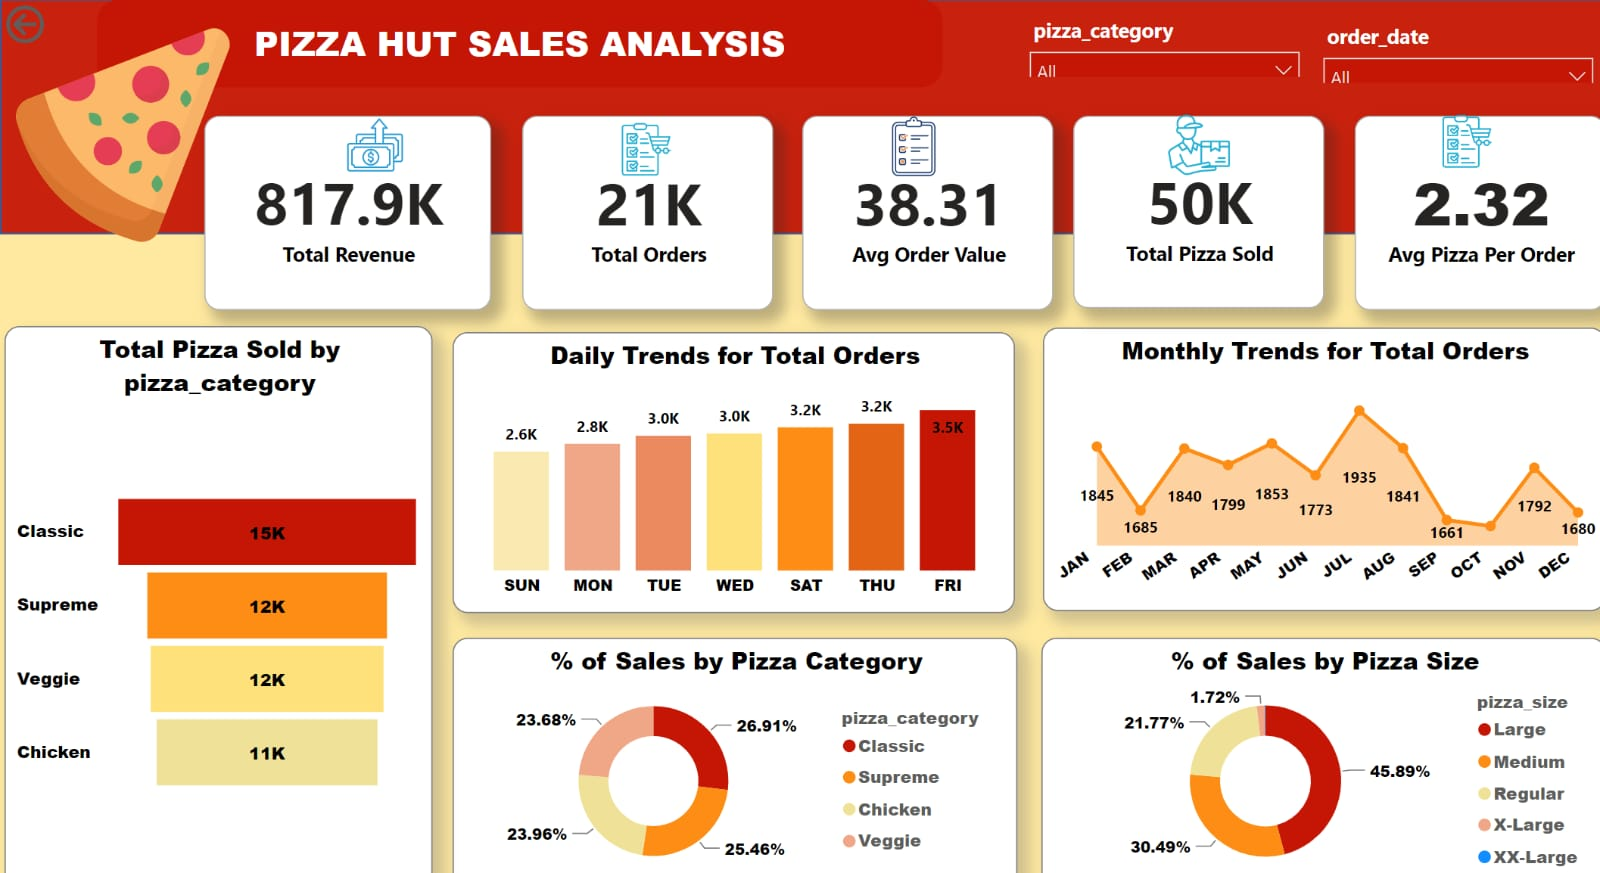

Layout of this report page (visuals, bound fields, positions):
{"tool":"powerbi","page":{"name":"Page 1","canvas":[1280,720],"ordinal":0},"visuals":[{"type":"card","fields":{"Values":["pizza_sales.Total Revenue"]},"box":[20.5,122.1,215.9,138.8],"z":0,"group":"g1"},{"type":"card","fields":{"Values":["pizza_sales.Total Orders"]},"box":[277.2,124.9,212.7,138.6],"z":0},{"type":"card","fields":{"Values":["pizza_sales.Avg Order Value"]},"box":[522.8,124.9,212.7,138.6],"z":1000},{"type":"card","fields":{"Values":["pizza_sales.Avg Pizza Per Order"]},"box":[1037.4,124.9,211.3,138.6],"z":2000},{"type":"card","fields":{"Values":["pizza_sales.Total Pizza Sold"]},"box":[776.7,124.9,212.7,138.6],"z":3000},{"type":"funnel","fields":{"Category":["pizza_sales.pizza_category"],"Y":["Sum(pizza_sales.quantity)"]},"box":[905.7,295,362.3,424],"z":4000},{"type":"columnChart","fields":{"Category":["pizza_sales.DayName"],"Y":["Count(pizza_sales.order_id)"]},"box":[129,295,360.9,188],"z":5000},{"type":"stackedAreaChart","fields":{"Category":["pizza_sales.MonthName"],"Y":["Count(pizza_sales.order_id)"]},"box":[522.8,295,360.9,188],"z":6000},{"type":"donutChart","fields":{"Category":["pizza_sales.pizza_category"],"Y":["Sum(pizza_sales.total_price)"]},"box":[129,531,360.9,188],"z":7000},{"type":"donutChart","fields":{"Category":["pizza_sales.pizza_size"],"Y":["Sum(pizza_sales.total_price)"]},"box":[524.2,531,360.9,188],"z":8000},{"type":"slicer","fields":{"Values":["pizza_sales.pizza_category"]},"box":[522.6,0,361.6,74.3],"z":9000},{"type":"slicer","fields":{"Values":["pizza_sales.order_date"]},"box":[918.9,0,361.6,74.3],"z":10000},{"type":"textbox","box":[0,0,509.1,66.4],"z":11000},{"type":"group","id":"g1","title":"Group 1","box":[-7.7,122.1,244.1,138.8],"z":12000},{"type":"image","box":[-7.7,124.7,134.5,50.8],"z":13000,"group":"g1"},{"type":"image","box":[256.6,124.9,107,70],"z":13000},{"type":"image","box":[509.1,131.7,85.1,50.8],"z":14000},{"type":"image","box":[767.1,122.1,83.7,72.7],"z":15000},{"type":"image","box":[1037.4,131.7,72.7,56.3],"z":16000}]}

Visuals, with their boxes on the page's 1280x720 design canvas (x1, y1, x2, y2). These are canvas units, not pixel positions in the 1600x873 screenshot, which may show the page scaled, cropped or inside an application window:
card - pizza_sales.Total Revenue: [left=20, top=122, right=236, bottom=261]
card - pizza_sales.Total Orders: [left=277, top=125, right=490, bottom=264]
card - pizza_sales.Avg Order Value: [left=523, top=125, right=736, bottom=264]
card - pizza_sales.Avg Pizza Per Order: [left=1037, top=125, right=1249, bottom=264]
card - pizza_sales.Total Pizza Sold: [left=777, top=125, right=989, bottom=264]
funnel - pizza_sales.pizza_category x Sum(pizza_sales.quantity): [left=906, top=295, right=1268, bottom=719]
columnChart - pizza_sales.DayName x Count(pizza_sales.order_id): [left=129, top=295, right=490, bottom=483]
stackedAreaChart - pizza_sales.MonthName x Count(pizza_sales.order_id): [left=523, top=295, right=884, bottom=483]
donutChart - pizza_sales.pizza_category x Sum(pizza_sales.total_price): [left=129, top=531, right=490, bottom=719]
donutChart - pizza_sales.pizza_size x Sum(pizza_sales.total_price): [left=524, top=531, right=885, bottom=719]
slicer - pizza_sales.pizza_category: [left=523, top=0, right=884, bottom=74]
slicer - pizza_sales.order_date: [left=919, top=0, right=1280, bottom=74]
textbox: [left=0, top=0, right=509, bottom=66]
"Group 1" group: [left=-8, top=122, right=236, bottom=261]
image: [left=-8, top=125, right=127, bottom=176]
image: [left=257, top=125, right=364, bottom=195]
image: [left=509, top=132, right=594, bottom=182]
image: [left=767, top=122, right=851, bottom=195]
image: [left=1037, top=132, right=1110, bottom=188]
